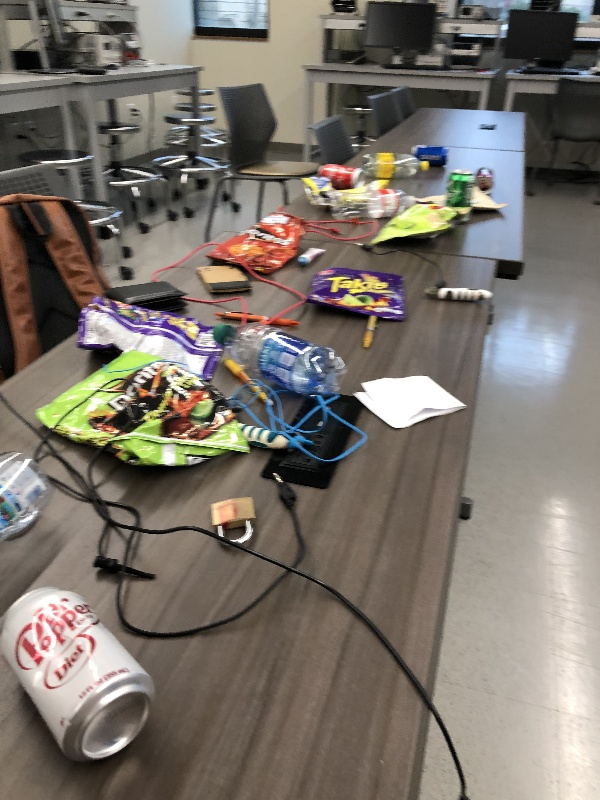bag: (31, 350, 253, 473), (68, 293, 231, 380), (303, 263, 413, 325), (204, 218, 309, 278), (367, 201, 463, 249), (296, 177, 392, 206), (410, 186, 510, 212)
bottle: (210, 318, 349, 397), (1, 450, 53, 547), (333, 190, 420, 222), (359, 151, 432, 180)
can: (1, 583, 162, 765), (312, 163, 366, 190), (408, 143, 452, 170), (445, 169, 476, 207), (474, 166, 496, 197)
